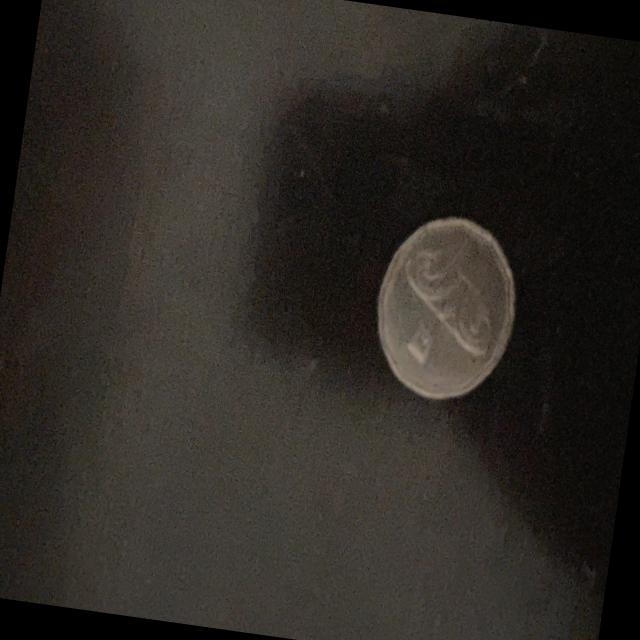5-shekel: (362, 206, 522, 418)
